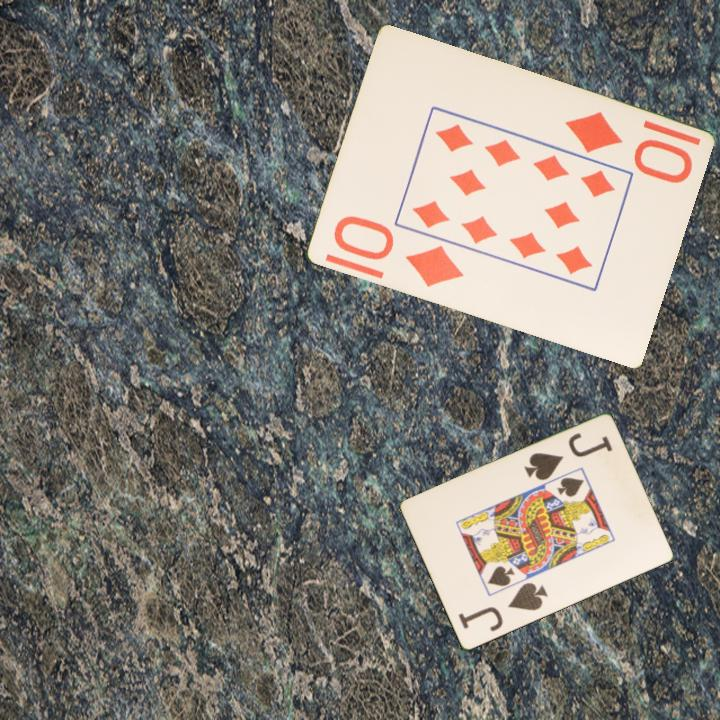10d: (329, 212, 466, 291), (561, 107, 695, 186)
Js: (454, 579, 550, 635), (520, 429, 616, 484)
